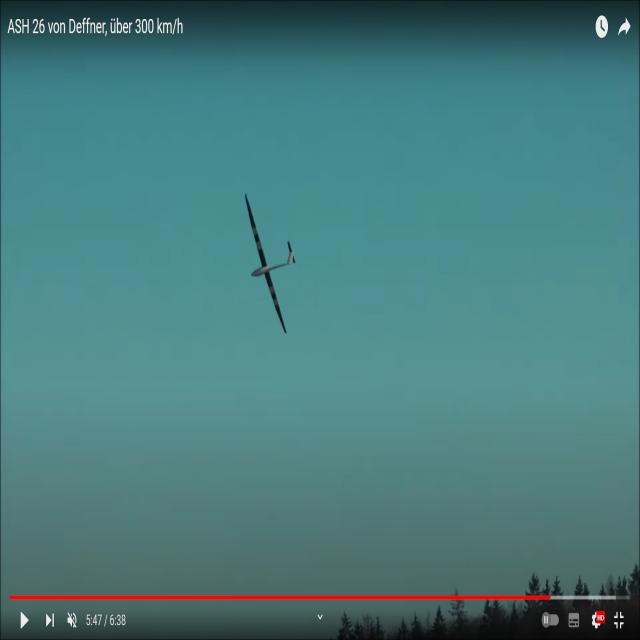iha: (241, 186, 297, 329)
